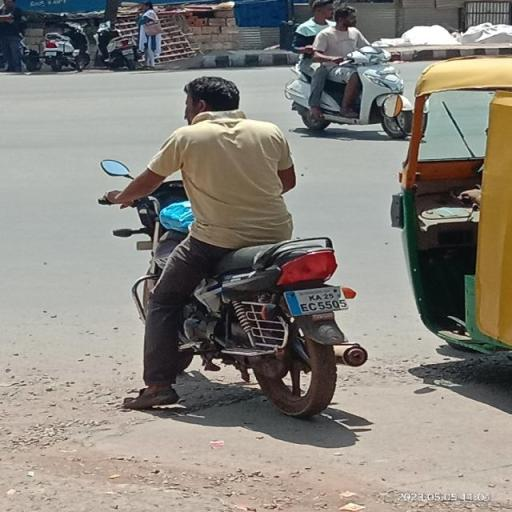bike: (79, 68, 388, 426)
numberplate: (280, 280, 356, 318)
withouthelmet: (185, 78, 240, 118)
